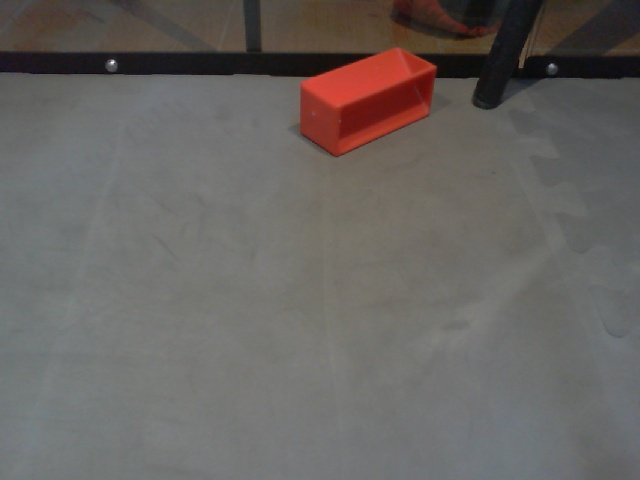RedSample: (297, 45, 438, 159)
